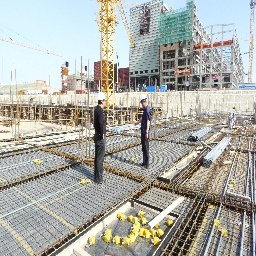helmet: (97, 92, 107, 101), (139, 94, 147, 103)
no-vest: (92, 105, 107, 135), (141, 105, 152, 135)
person: (93, 91, 108, 185), (138, 93, 152, 170)
